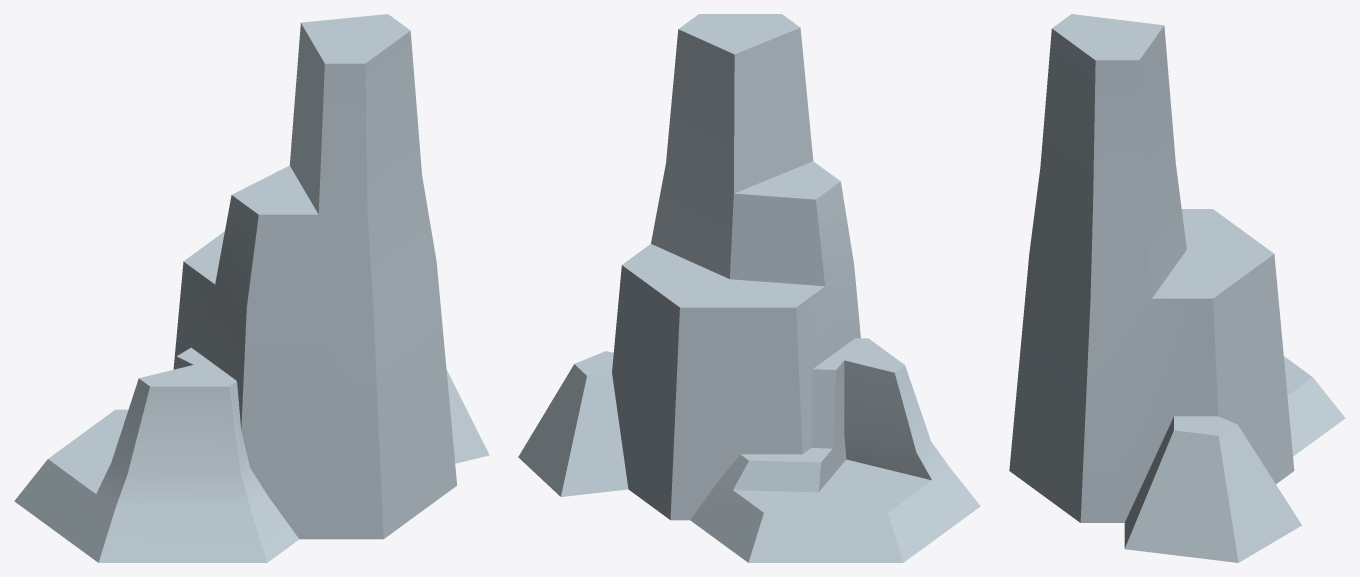
Rendered from formationLarge_stone.gltf.
3 renders of one model, left to right at view 1: azimuth 30°, elevation 25°; view 2: azimuth 150°, elevation 25°; view 3: azimuth 270°, elevation 25°, orthographic. The views are drawn at different scales.
Visible parts, largest first — view 1: formationLarge_stone; view 2: formationLarge_stone; view 3: formationLarge_stone.
Part boxes in pixels (x1,y1,x2,y2): formationLarge_stone: [14, 14, 489, 562]; formationLarge_stone: [518, 14, 980, 562]; formationLarge_stone: [1009, 14, 1345, 562].
Size of the model in its own units: 1.36 by 1.38 by 0.9468.
